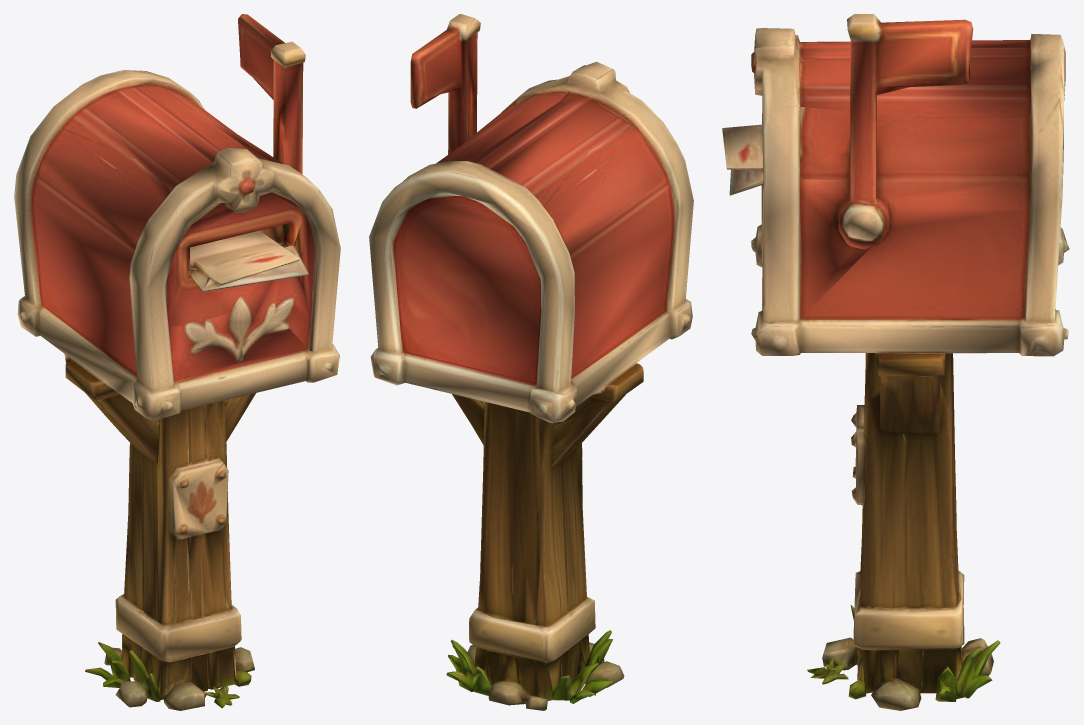
File: mailbox.glb
The picture shows the model from 3 angles, left to right: view 1: azimuth 30°, elevation 25°; view 2: azimuth 150°, elevation 25°; view 3: azimuth 270°, elevation 25°; orthographic projection. The views are drawn at different scales.
Visible parts, largest first — view 1: Mesh1.0; view 2: Mesh1.0; view 3: Mesh1.0.
Boxes of the visible parts, x1,y1,x2,y2 form: Mesh1.0: [14, 14, 340, 710]; Mesh1.0: [369, 14, 693, 710]; Mesh1.0: [722, 14, 1069, 710].
Size of the model in its own units: 0.6575 by 1.9 by 0.8493.
Materials: 1 (1 with a texture image).
